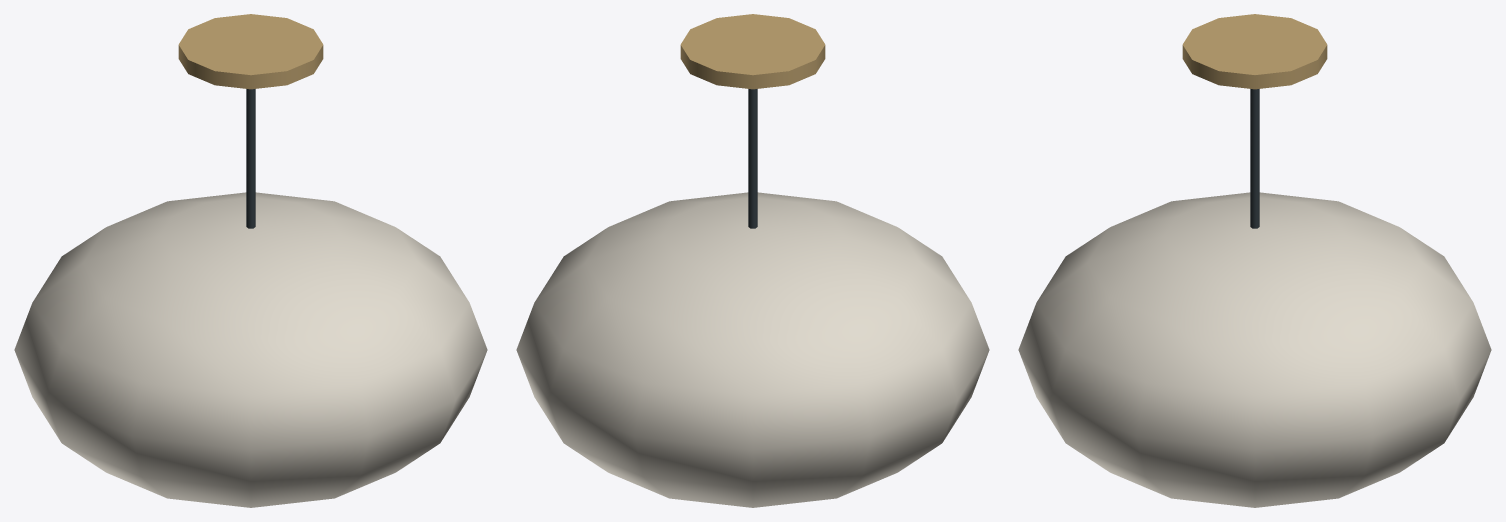
File: lamp-16-3.lod.glb
The picture shows the model from 3 angles, left to right: view 1: azimuth 30°, elevation 25°; view 2: azimuth 150°, elevation 25°; view 3: azimuth 270°, elevation 25°; orthographic projection.
Visible parts, largest first — view 1: part (×3); view 2: part (×3); view 3: part (×3).
Part boxes in pixels (bbox=[...]): part (×3): bbox=[14, 14, 487, 507]; part (×3): bbox=[516, 14, 989, 507]; part (×3): bbox=[1018, 14, 1491, 507].
Size of the model in its own units: 1 by 1 by 1.
